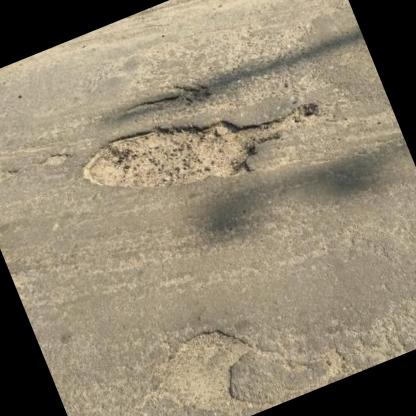pothole: (70, 59, 334, 232), (149, 314, 275, 416), (119, 70, 215, 132), (37, 146, 71, 172)
